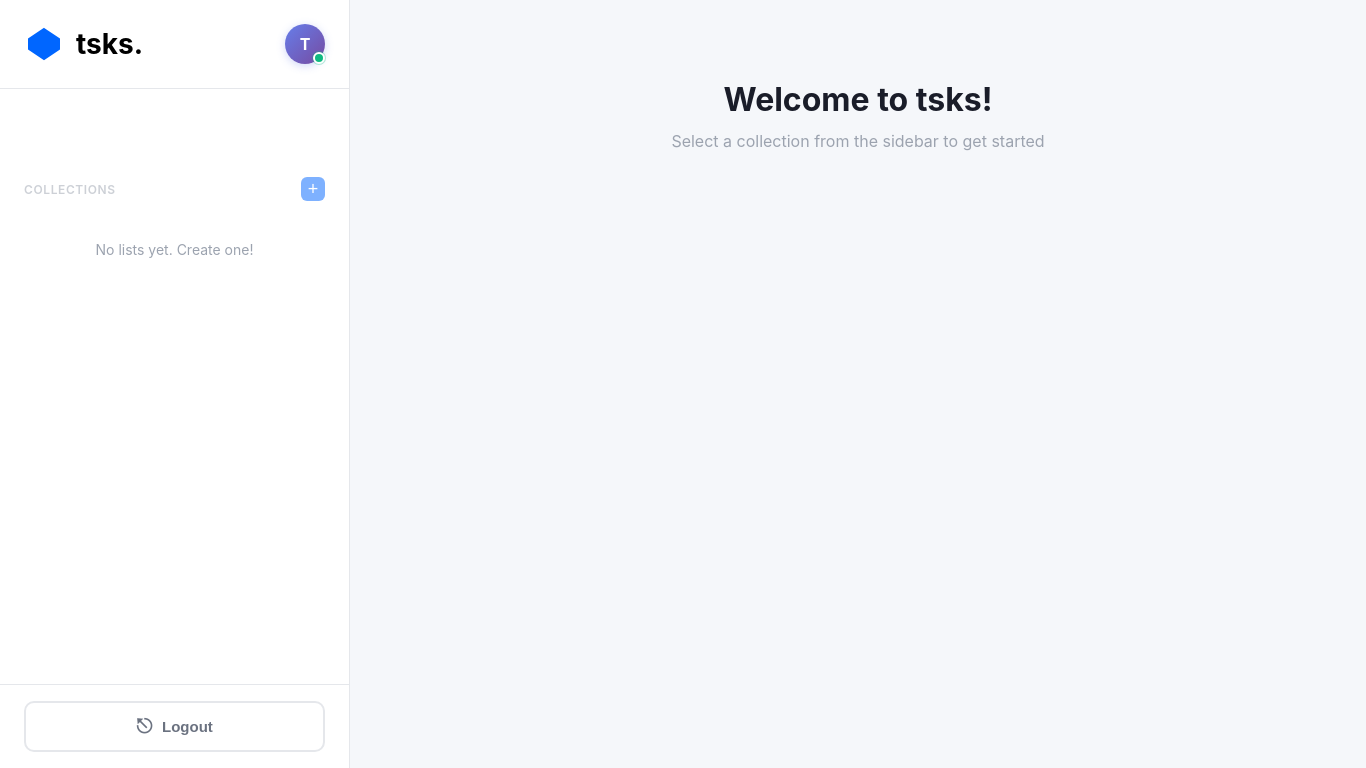
Test case: Dashboard Component › should open new list modal when add button is clicked
The width and height of the screenshot is (1366, 768).
Click the button "+".
click(313, 189)  # box [301, 177, 325, 201]
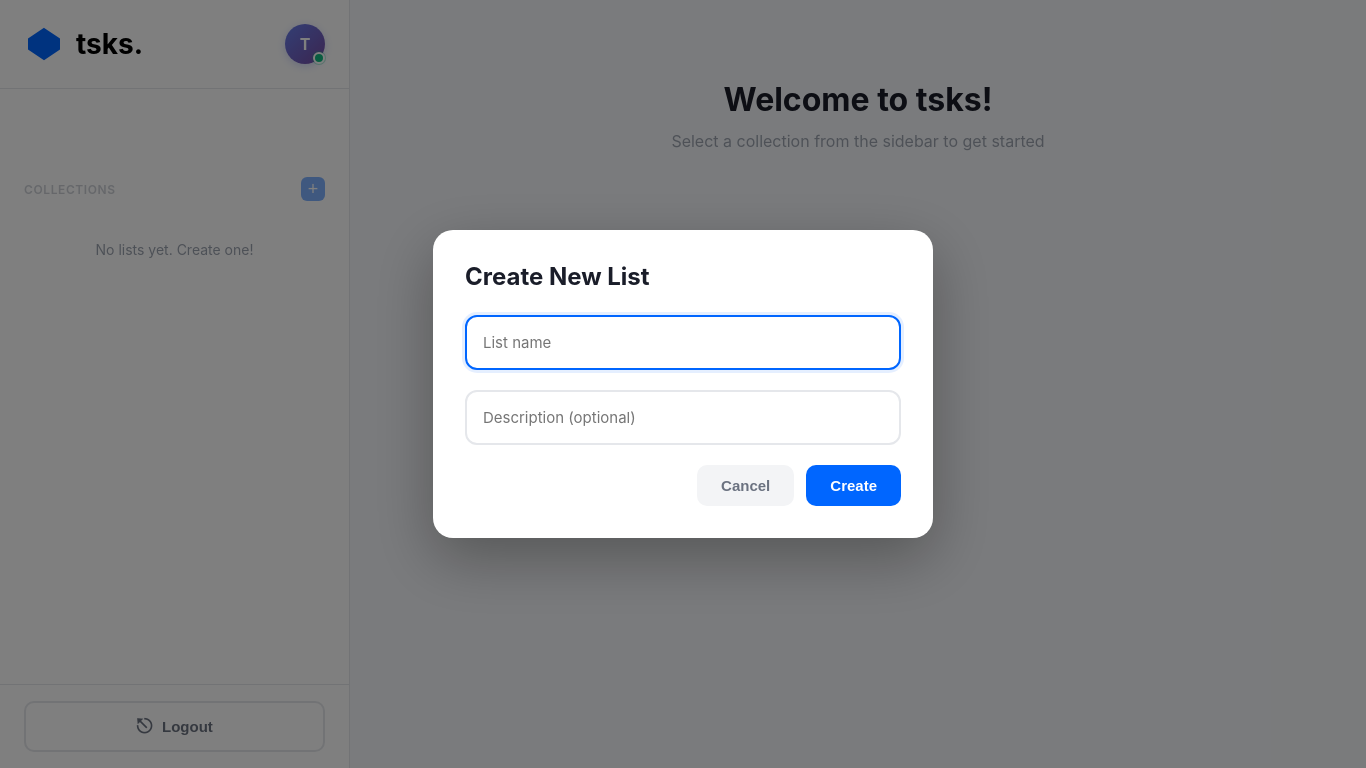
Result: the heading "Create New List" is shown at [465, 262, 650, 291]
